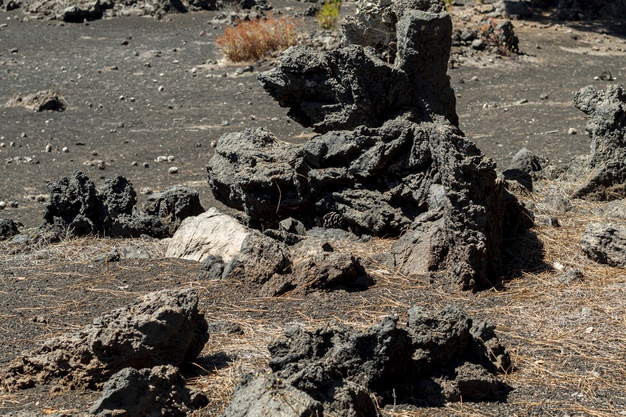volcanic_rock: (199, 125, 543, 285), (8, 291, 216, 417), (261, 317, 515, 417), (261, 6, 457, 134), (18, 304, 213, 382), (35, 169, 204, 242), (565, 76, 626, 201), (86, 361, 199, 414), (7, 84, 64, 115)
